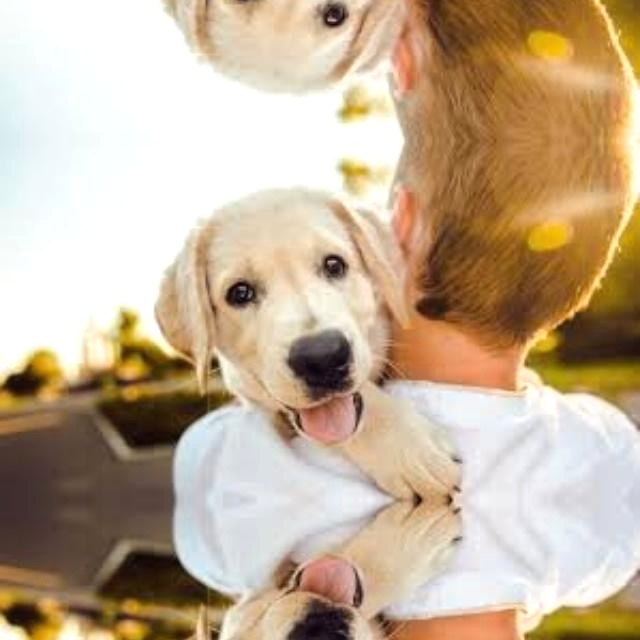dog: (175, 172, 405, 455), (175, 0, 405, 107), (175, 544, 405, 640)
